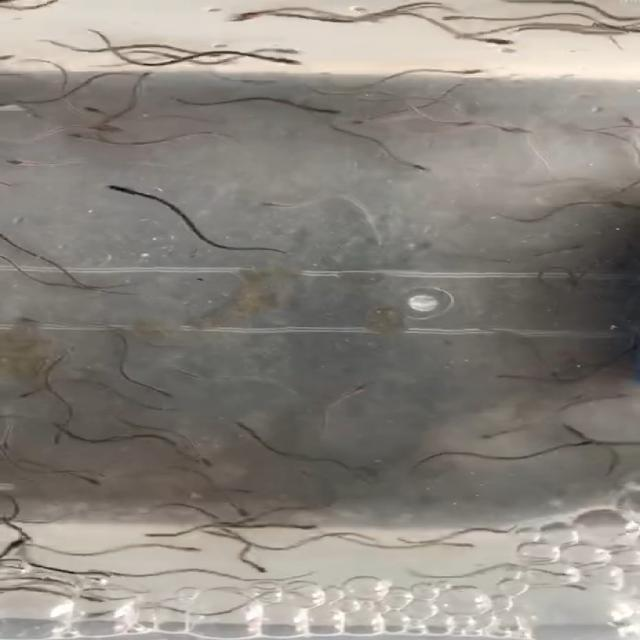active_glass_eel: (428, 8, 486, 25), (0, 91, 50, 109), (296, 103, 348, 120), (77, 602, 116, 624), (52, 421, 87, 445), (538, 562, 580, 582), (11, 384, 56, 402), (104, 178, 152, 194), (276, 522, 326, 537), (73, 567, 122, 582), (95, 559, 131, 579), (148, 377, 182, 398), (18, 308, 51, 329), (290, 468, 334, 483), (176, 450, 212, 468), (0, 153, 40, 169), (559, 578, 599, 594), (163, 542, 216, 554), (219, 10, 272, 22), (170, 528, 218, 541), (557, 240, 591, 258), (269, 39, 305, 56), (203, 449, 234, 468), (237, 419, 265, 440), (78, 470, 104, 492), (348, 380, 374, 401), (260, 197, 294, 213), (221, 504, 257, 519), (470, 426, 503, 442), (463, 63, 498, 78), (442, 33, 485, 45), (0, 535, 34, 550), (490, 34, 529, 47), (64, 131, 100, 145), (536, 364, 569, 379), (567, 437, 596, 454), (104, 117, 131, 135), (248, 558, 282, 572), (447, 538, 481, 552), (609, 338, 640, 353), (0, 434, 20, 457), (412, 161, 444, 175), (69, 590, 101, 604), (339, 112, 365, 129), (508, 122, 544, 134), (80, 98, 106, 114), (83, 467, 119, 478), (606, 13, 640, 24), (172, 369, 203, 381), (150, 60, 182, 71), (0, 233, 22, 249), (613, 198, 640, 210), (274, 54, 303, 65)
